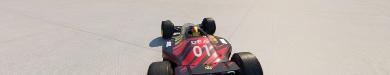Car: (145, 17, 263, 74)
grass: (0, 0, 389, 74)
